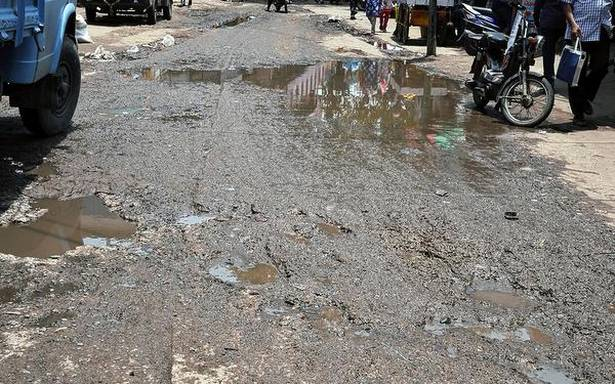pothole: (0, 174, 176, 259), (461, 266, 545, 311), (207, 251, 294, 293)
